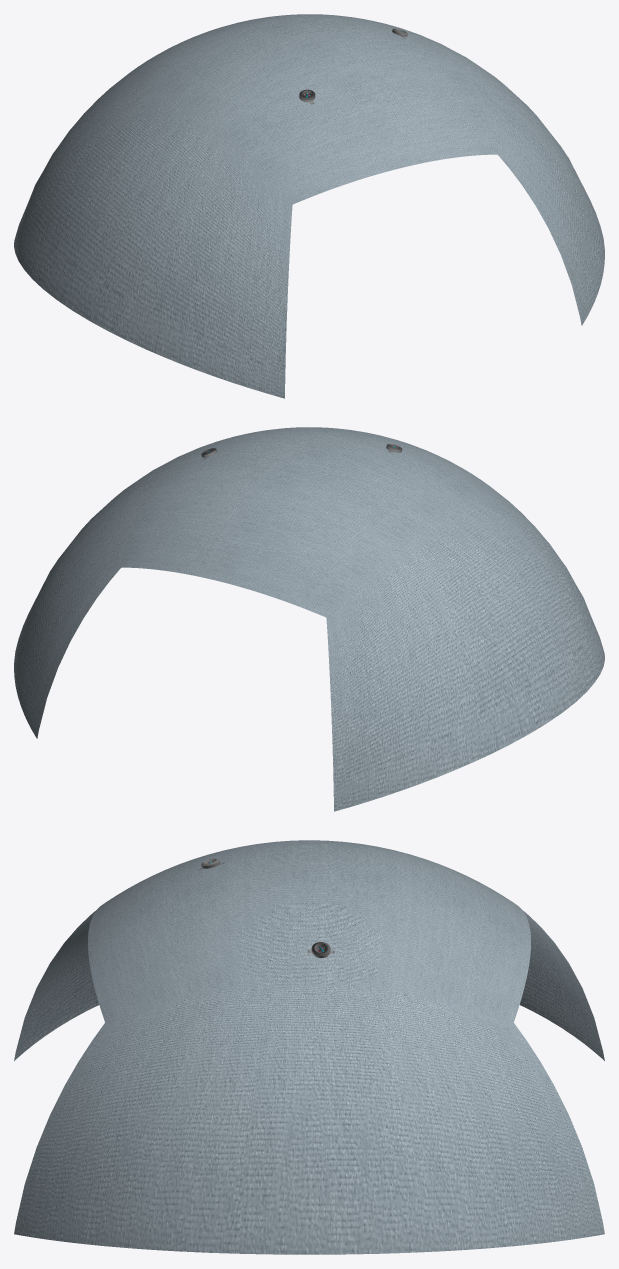
Rendered from 0.01_Colorway 1.glb.
3 views of the same model, one above another, from view 1: azimuth 30°, elevation 25°; view 2: azimuth 150°, elevation 25°; view 3: azimuth 270°, elevation 25° (orthographic). The views are drawn at different scales.
Parts seen in each view (by area): view 1: Design_mat_0_Outside; view 2: Design_mat_0_Outside; view 3: Design_mat_0_Outside.
Part boxes in pixels (<box>): Design_mat_0_Outside: <box>14,14,604,398</box>; Design_mat_0_Outside: <box>14,427,604,811</box>; Design_mat_0_Outside: <box>14,840,604,1254</box>.
Size of the model in its own units: 39.94 by 17.28 by 33.85.
7 materials, 7 textured.
